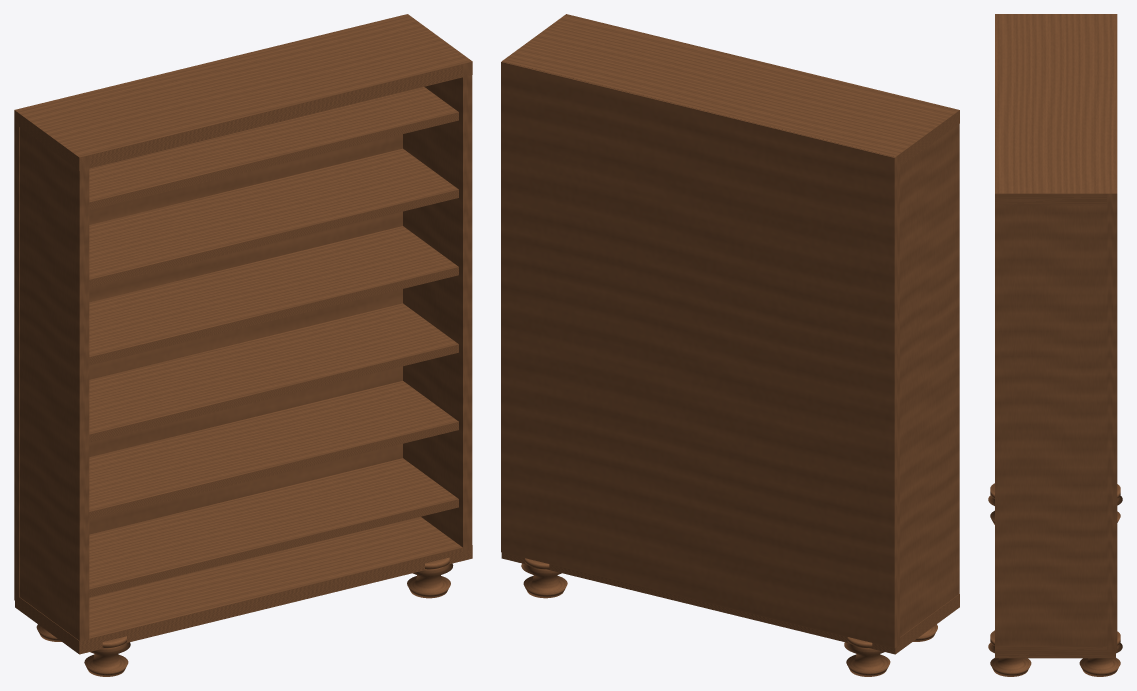
Rendered from bookcase_arcade-f3e1827251b4.glb.
The picture shows the model from 3 angles, left to right: view 1: azimuth 30°, elevation 25°; view 2: azimuth 150°, elevation 25°; view 3: azimuth 270°, elevation 25°; orthographic projection. The views are drawn at different scales.
Visible parts, largest first — view 1: surface_walnut; view 2: surface_walnut; view 3: surface_walnut.
Boxes of the visible parts, box(x1,y1,x2,y2) form: surface_walnut: box(14, 14, 472, 676); surface_walnut: box(501, 14, 959, 676); surface_walnut: box(988, 14, 1122, 676).
Bounding box in the file's own units: 1.2 × 1.53 × 0.3792.
Materials: 1 (1 with a texture image).
